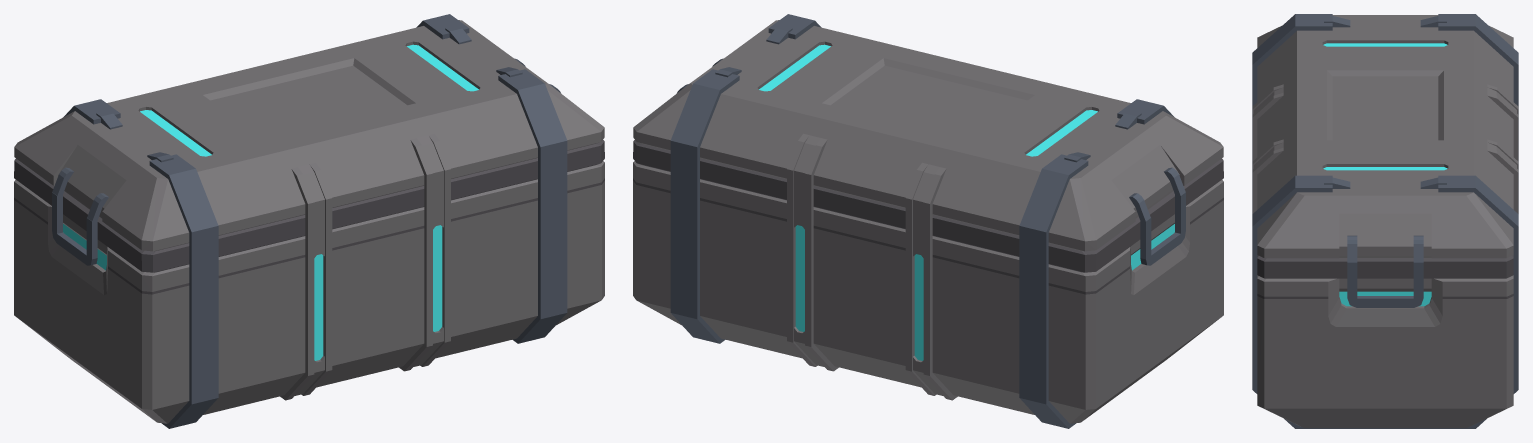
File: SM_Props_Box_04.fbx
3 renders of one model, left to right at view 1: azimuth 30°, elevation 25°; view 2: azimuth 150°, elevation 25°; view 3: azimuth 270°, elevation 25°, orthographic. The views are drawn at different scales.
Parts seen in each view (by area): view 1: SM_Props_Box_04; view 2: SM_Props_Box_04; view 3: SM_Props_Box_04.
Part boxes in pixels (x1,y1,x2,y2): SM_Props_Box_04: (14,14,604,428); SM_Props_Box_04: (633,14,1223,428); SM_Props_Box_04: (1252,14,1518,428).
Size of the model in its own units: 1.28 by 0.6577 by 0.654.
